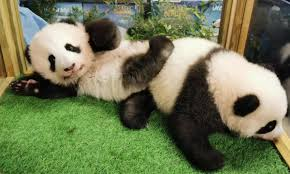panda: (11, 11, 175, 125)
